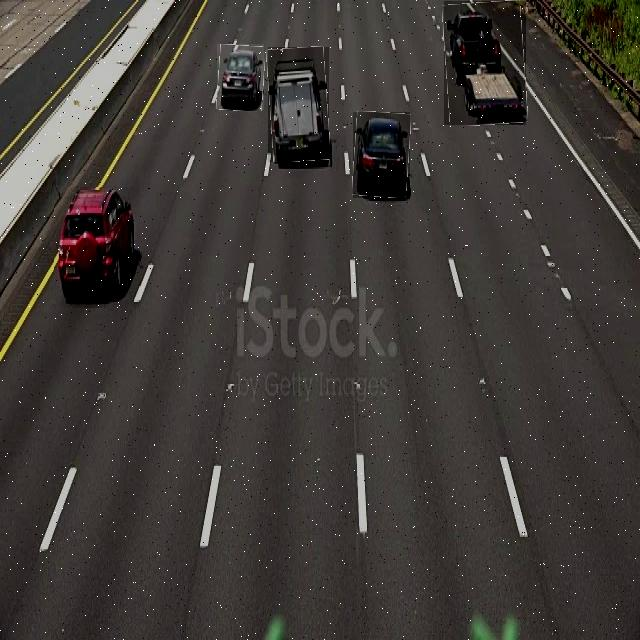Car: (54, 188, 140, 308), (353, 112, 410, 198), (217, 44, 264, 110)
Truck: (444, 1, 526, 125), (268, 47, 329, 162)
